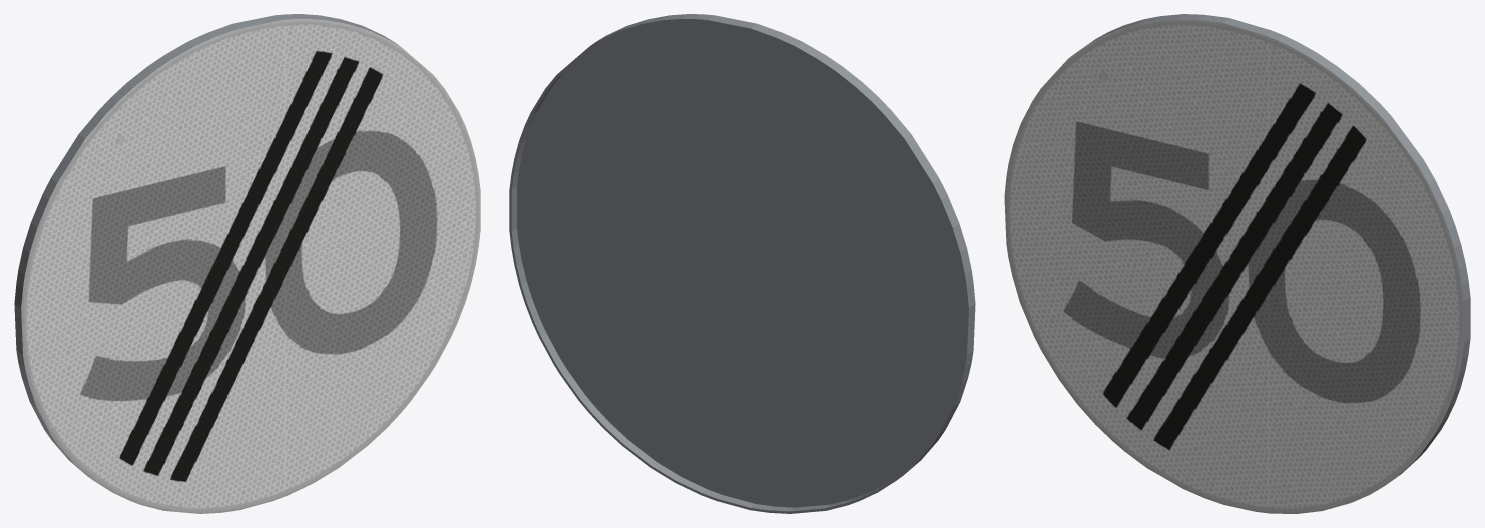
The picture shows the model from 3 angles, left to right: view 1: azimuth 30°, elevation 25°; view 2: azimuth 150°, elevation 25°; view 3: azimuth 330°, elevation 25°; orthographic projection.
Visible parts, largest first — view 1: cat_06ddf087d927b546; view 2: cat_06ddf087d927b546; view 3: cat_06ddf087d927b546.
Part boxes in pixels (x1,y1,x2,y2): cat_06ddf087d927b546: (14, 14, 480, 513); cat_06ddf087d927b546: (509, 14, 975, 513); cat_06ddf087d927b546: (1004, 14, 1470, 513).
Bounding box in the file's own units: 0.5988 × 0.015 × 0.6.
Materials: 2 (1 with a texture image).
